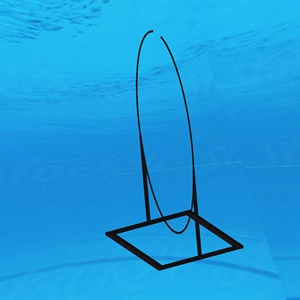circle: (104, 28, 245, 270)
